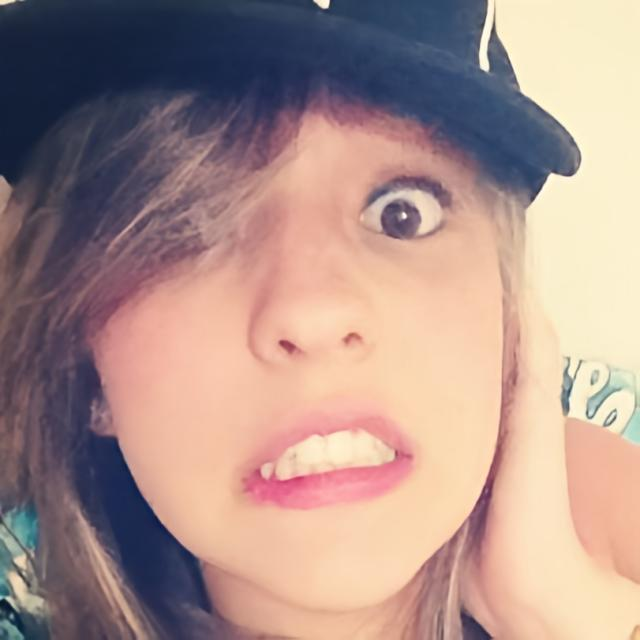fear: (88, 72, 506, 614)
